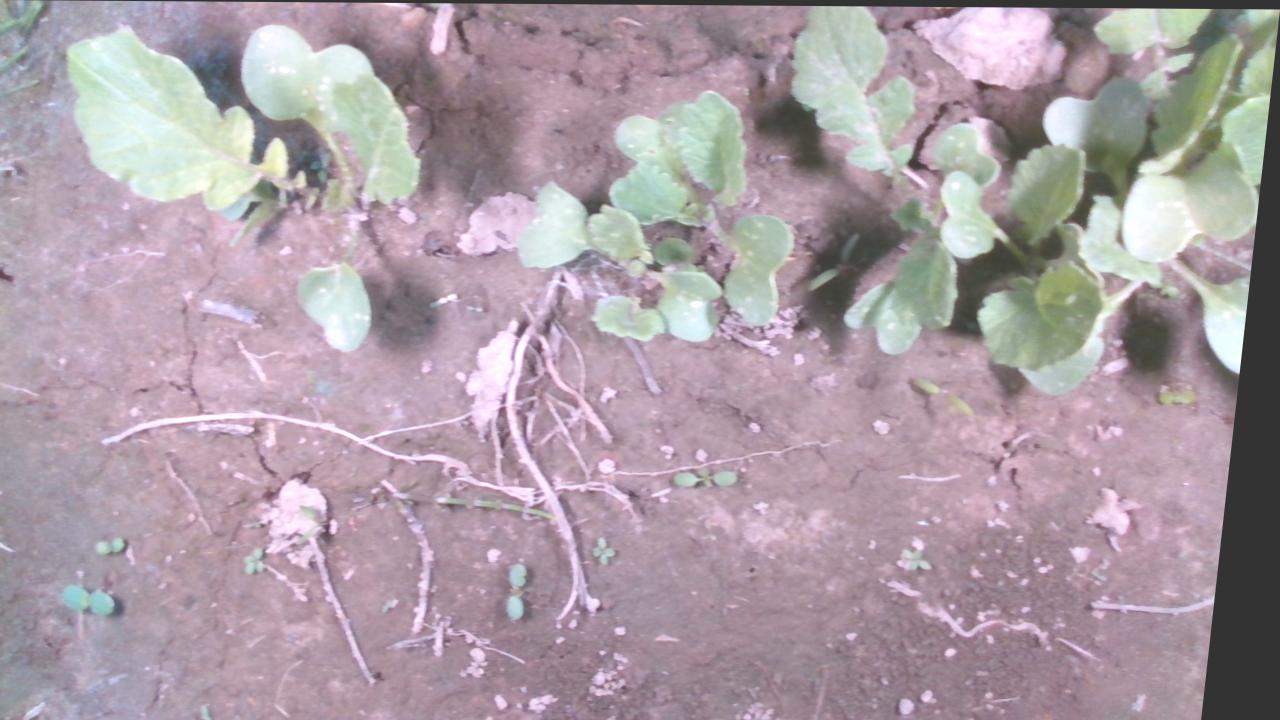weed: (676, 460, 752, 487), (515, 561, 543, 619), (601, 535, 631, 564)
